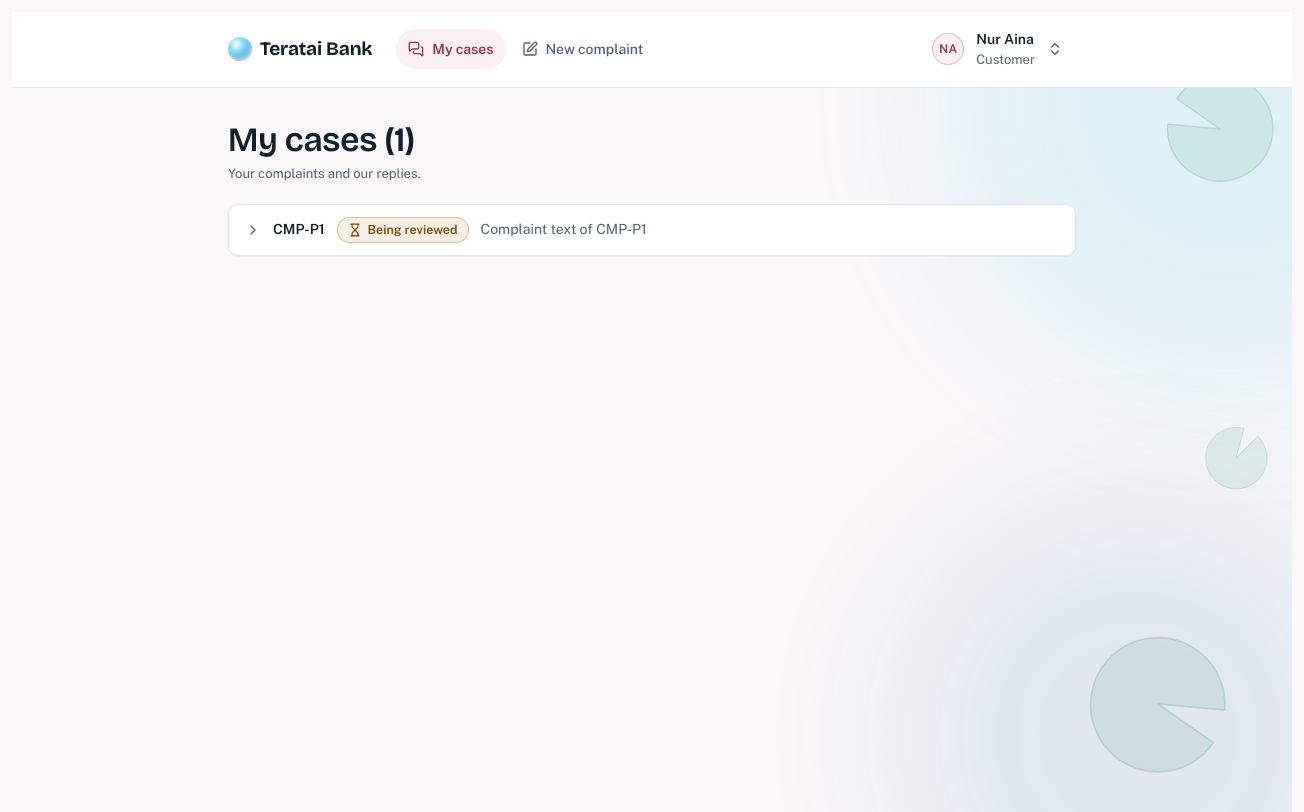
it: a customer › sees their own case as being reviewed, never the unsent draft
Check: the heading "My cases (1)" is shown, box [228,120,420,160]
Check: the text "Being reviewed" is shown, box [336,217,468,243]
Step 1. Click the text "CMP-P1" → (299, 230), box [273,219,324,240]
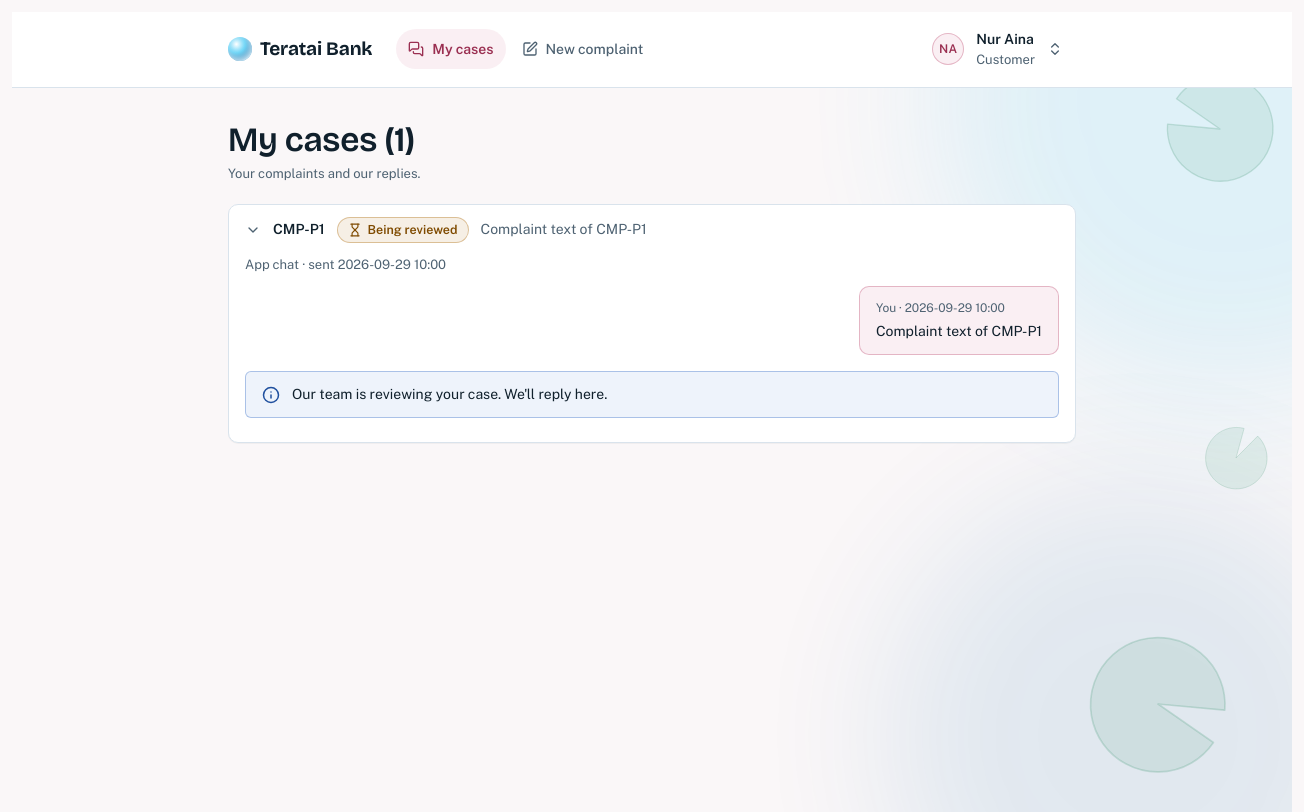
Check: the text "Our team is reviewing your case. We'll reply here." is shown, box [292,386,607,402]
